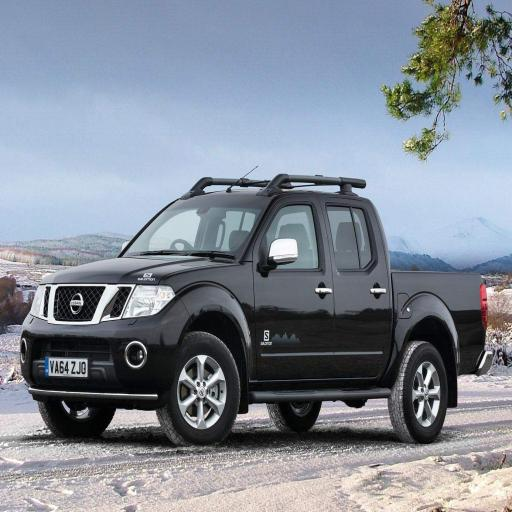pickup: (18, 170, 494, 452)
